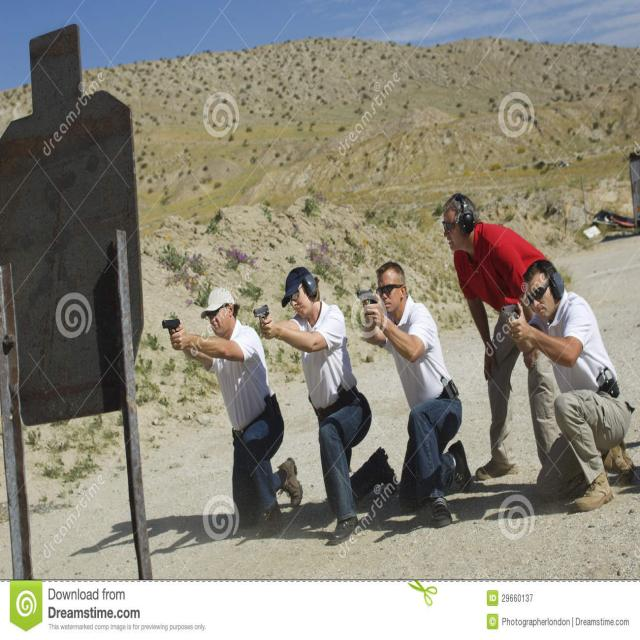handgun: (357, 282, 383, 336), (505, 297, 529, 344), (254, 306, 277, 339), (163, 316, 181, 354)
